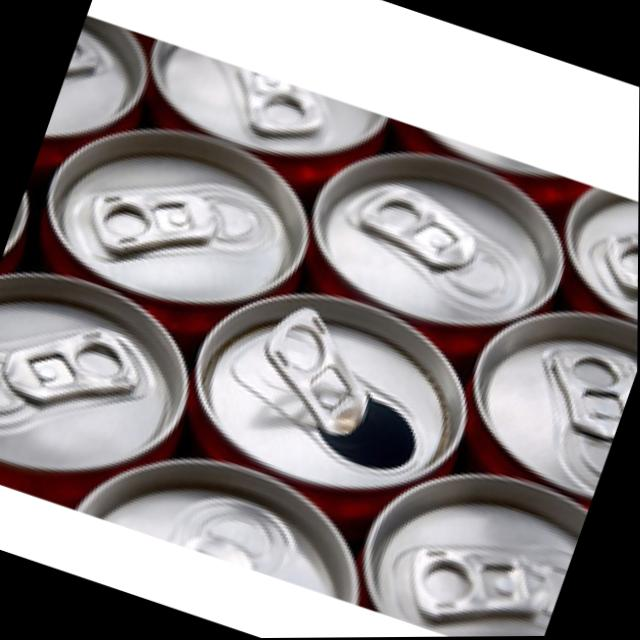aluminum_soda_cans: (24, 95, 324, 337), (288, 125, 581, 367), (72, 412, 399, 607), (0, 243, 214, 518), (350, 439, 591, 638), (441, 281, 638, 502), (131, 37, 389, 187), (43, 12, 158, 164), (547, 186, 639, 328)
